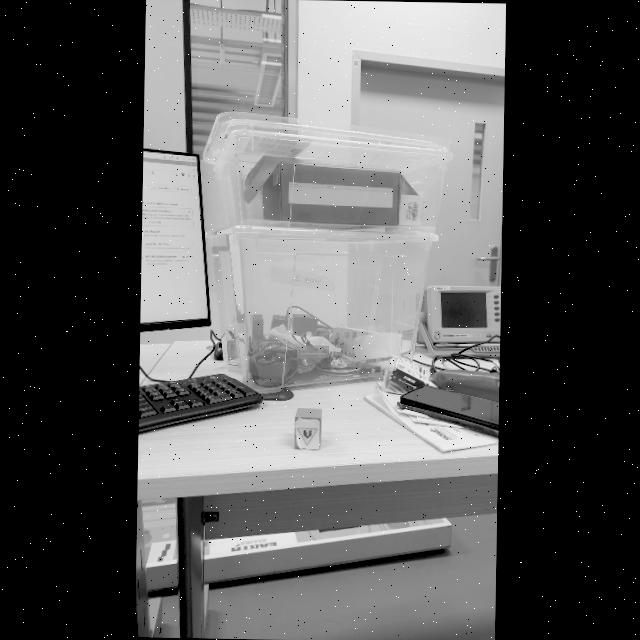Earthquake: (298, 426, 316, 444)
